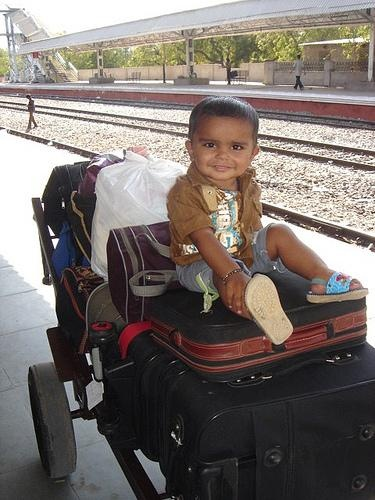person: (167, 89, 369, 344), (23, 92, 41, 133), (289, 51, 306, 91)
